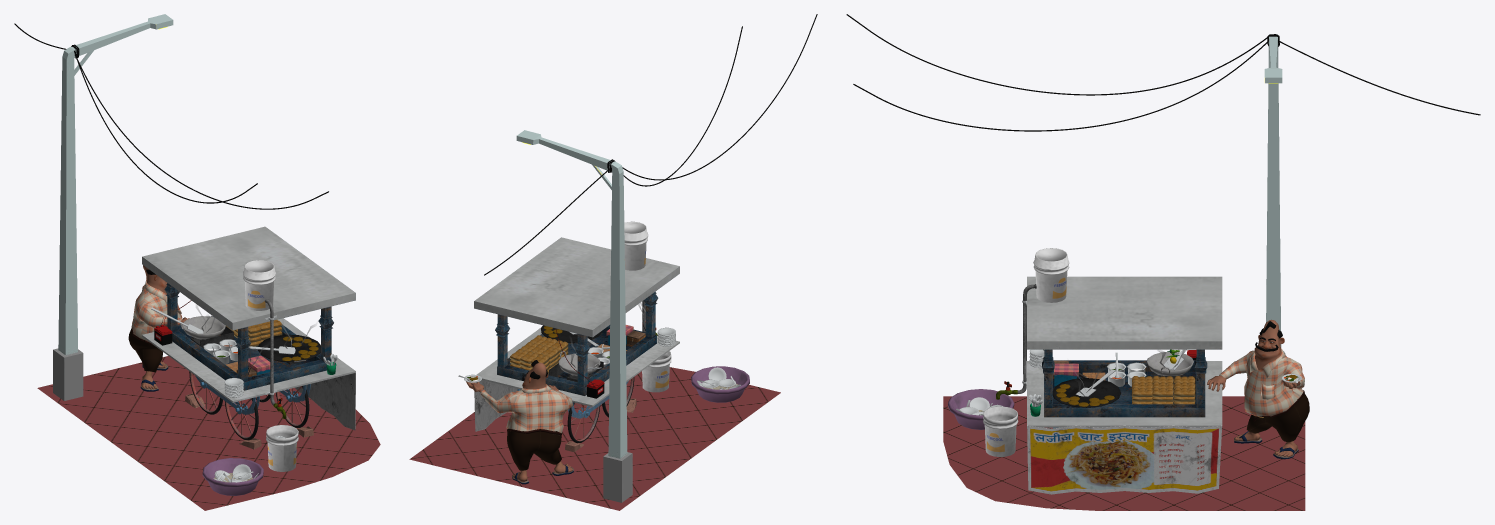
The model's file is gdk_street_food_vendor.glb.
3 renders of one model, left to right at view 1: azimuth 30°, elevation 25°; view 2: azimuth 150°, elevation 25°; view 3: azimuth 270°, elevation 25°, orthographic. The views are drawn at different scales.
Visible parts, largest first — view 1: ground, stall_roof, streetLight, eyes_000_Sphere_008_vendor1, stall_platform, stall_base, banner, bucket2, tub, buket1, Cylinder, Cylinder_001 (+8 smaller); view 2: ground, stall_roof, streetLight, eyes_000_Sphere_008_vendor1, stall_base, stall_platform, tub, bucket2, banner, buket1, pillar1_001, pillar1_003 (+4 smaller); view 3: ground, stall_roof, banner, eyes_000_Sphere_008_vendor1, streetLight, stall_platform, stall_base, bucket2, buket1, tub, Cylinder, poleWire2 (+2 smaller).
Part boxes in pixels (left/top/right/bottom): ground: left=37, top=356, right=380, bottom=510; stall_roof: left=142, top=226, right=355, bottom=330; streetLight: left=53, top=14, right=173, bottom=400; eyes_000_Sphere_008_vendor1: left=128, top=265, right=189, bottom=391; stall_platform: left=142, top=318, right=355, bottom=402; stall_base: left=172, top=316, right=331, bottom=390; banner: left=294, top=373, right=355, bottom=430; bucket2: left=243, top=260, right=275, bottom=310; tub: left=202, top=458, right=263, bottom=495; buket1: left=266, top=425, right=298, bottom=471; Cylinder: left=258, top=334, right=320, bottom=362; Cylinder_001: left=183, top=316, right=225, bottom=339; ground: left=409, top=367, right=780, bottom=510; stall_roof: left=474, top=237, right=679, bottom=337; streetLight: left=516, top=130, right=632, bottom=502; eyes_000_Sphere_008_vendor1: left=466, top=360, right=573, bottom=484; stall_base: left=497, top=325, right=656, bottom=395; stall_platform: left=476, top=328, right=679, bottom=406; tub: left=691, top=366, right=749, bottom=402; bucket2: left=624, top=221, right=648, bottom=270; banner: left=474, top=328, right=539, bottom=431; buket1: left=642, top=351, right=671, bottom=392; pillar1_001: left=495, top=314, right=509, bottom=367; pillar1_003: left=575, top=334, right=589, bottom=387; ground: left=943, top=396, right=1305, bottom=510; stall_roof: left=1027, top=276, right=1222, bottom=349; banner: left=1027, top=425, right=1221, bottom=494; eyes_000_Sphere_008_vendor1: left=1207, top=319, right=1309, bottom=459; streetLight: left=1264, top=34, right=1285, bottom=353; stall_platform: left=1027, top=361, right=1222, bottom=427; stall_base: left=1044, top=360, right=1205, bottom=417; bucket2: left=1033, top=248, right=1069, bottom=302; buket1: left=983, top=406, right=1018, bottom=456; tub: left=948, top=389, right=1014, bottom=429; Cylinder: left=1052, top=378, right=1121, bottom=407; poleWire2: left=846, top=14, right=1267, bottom=95.
Bounding box in the file's own units: 1.9 × 2.99 × 4.44.
Materials: 4 (4 with a texture image).
